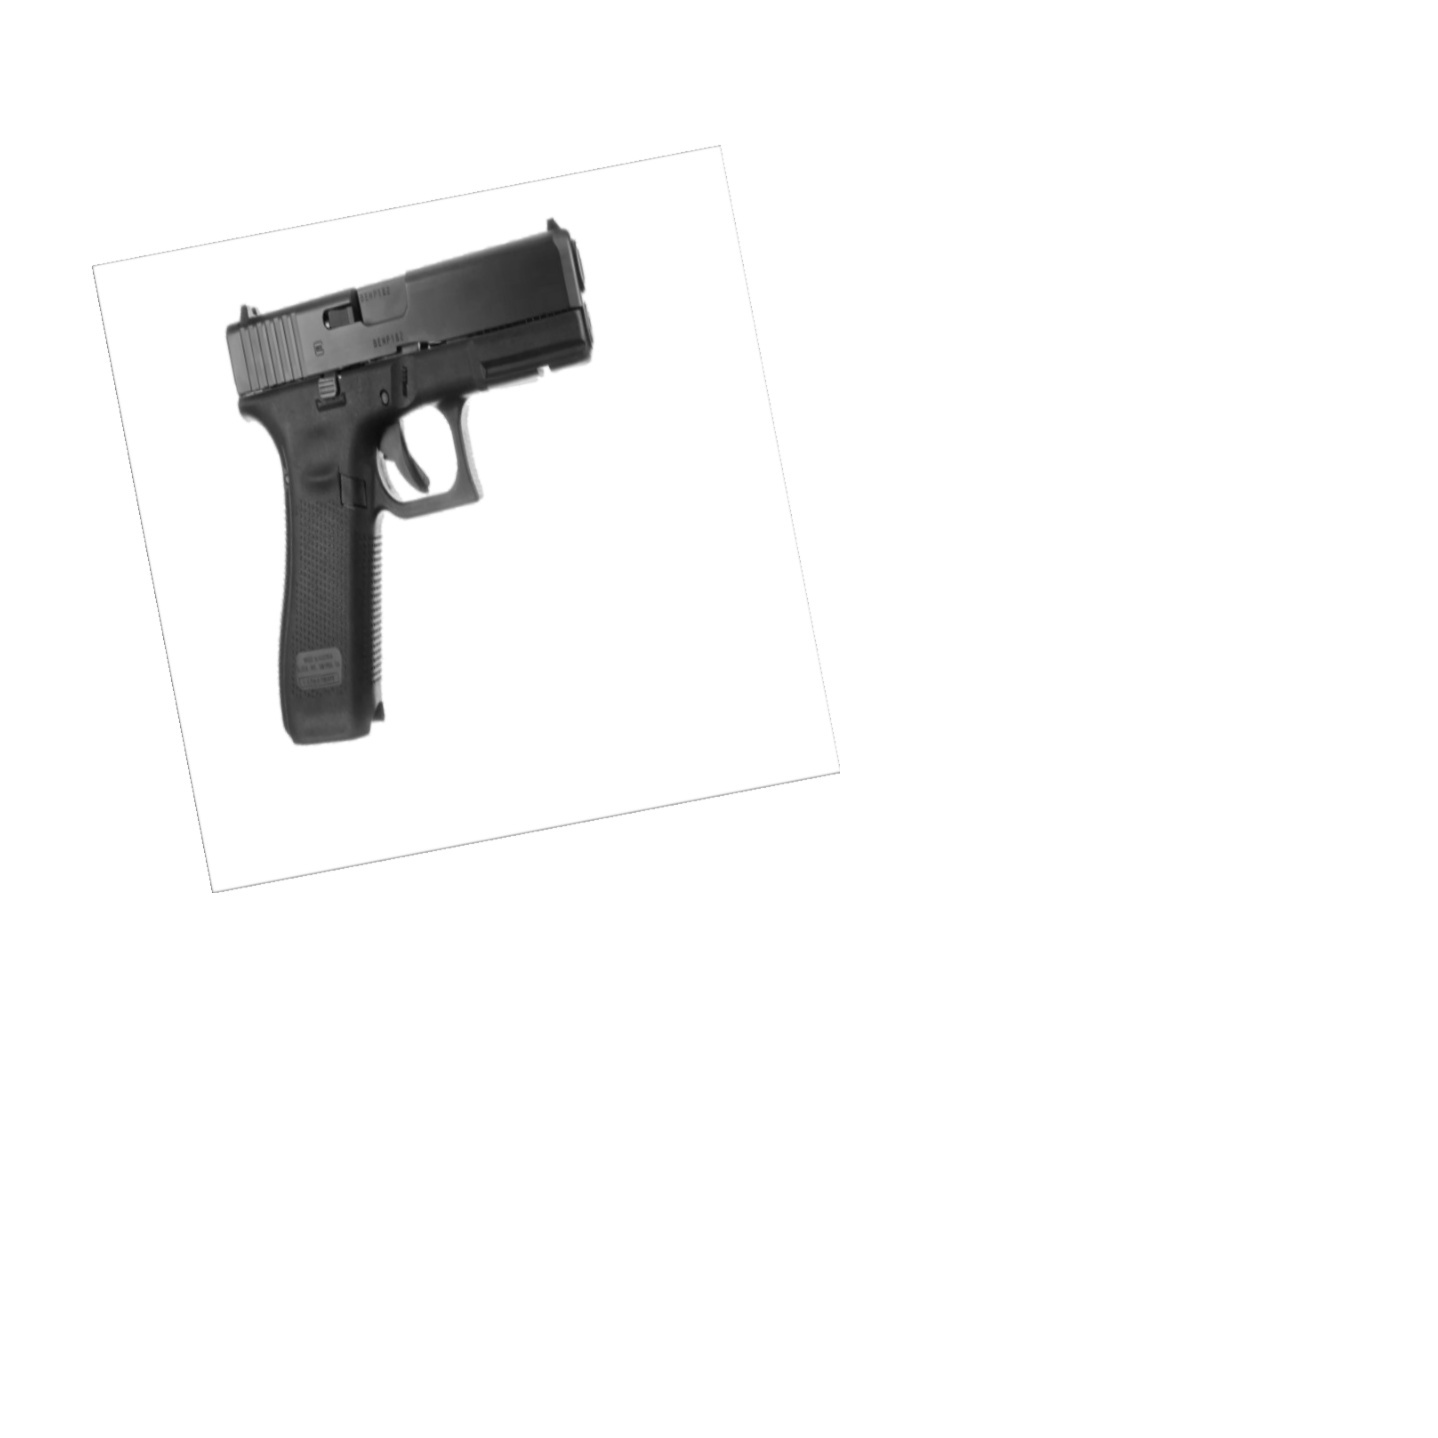gun: (224, 221, 602, 747)
